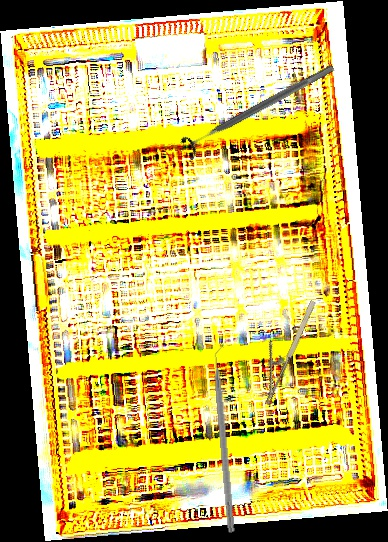Chopper: (211, 339, 245, 534)
Fixation Ring: (178, 56, 340, 162)
Needle Holder: (244, 291, 320, 405)
